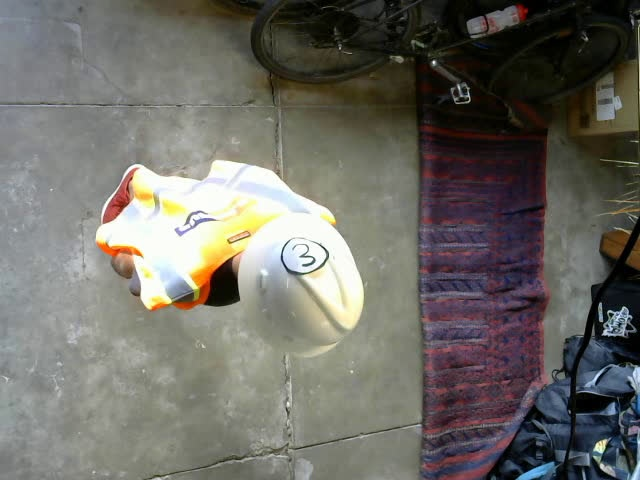three: (281, 234, 329, 274)
